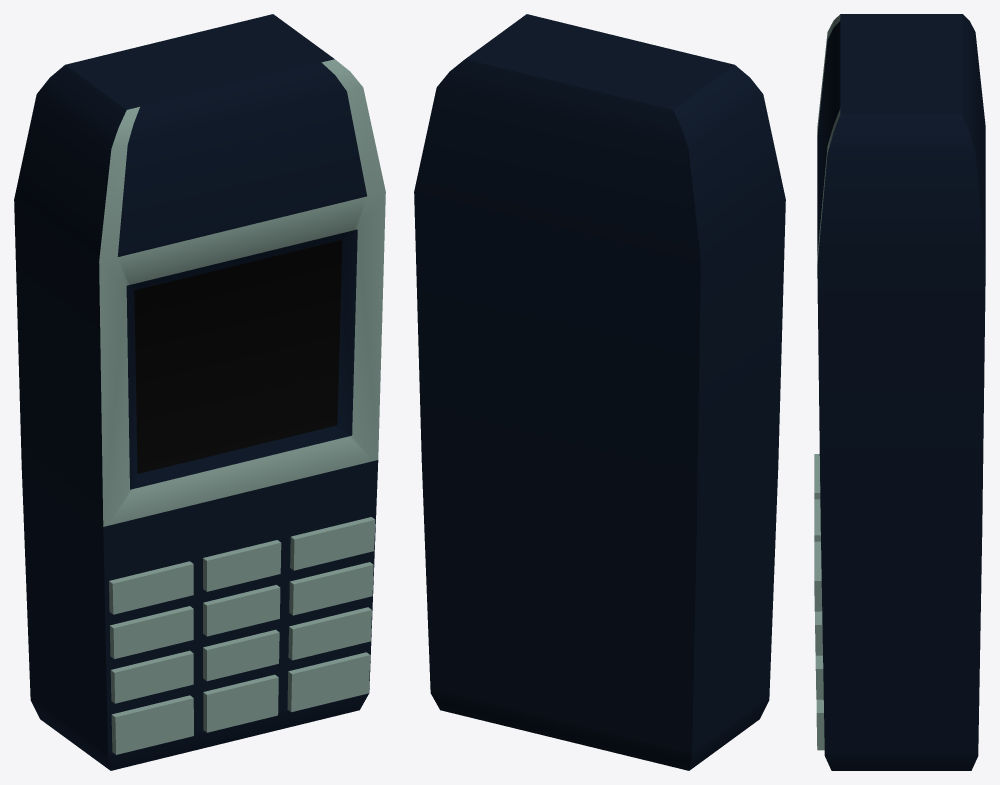
The model's file is Nokia3310.FBX.
The picture shows the model from 3 angles, left to right: view 1: azimuth 30°, elevation 25°; view 2: azimuth 150°, elevation 25°; view 3: azimuth 270°, elevation 25°; orthographic projection.
Parts seen in each view (by area): view 1: Nokia3310; view 2: Nokia3310; view 3: Nokia3310.
Part boxes in pixels (box(x1,y1,x2,y2)): Nokia3310: box(14, 14, 385, 770); Nokia3310: box(414, 14, 785, 770); Nokia3310: box(814, 14, 985, 770).
Size of the model in its own units: 4.3 by 9.43 by 2.25.
